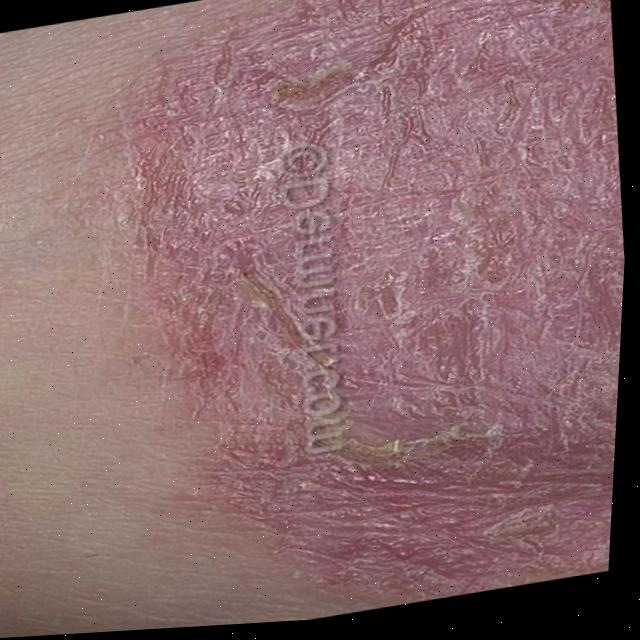Eczema: (76, 0, 640, 634)
